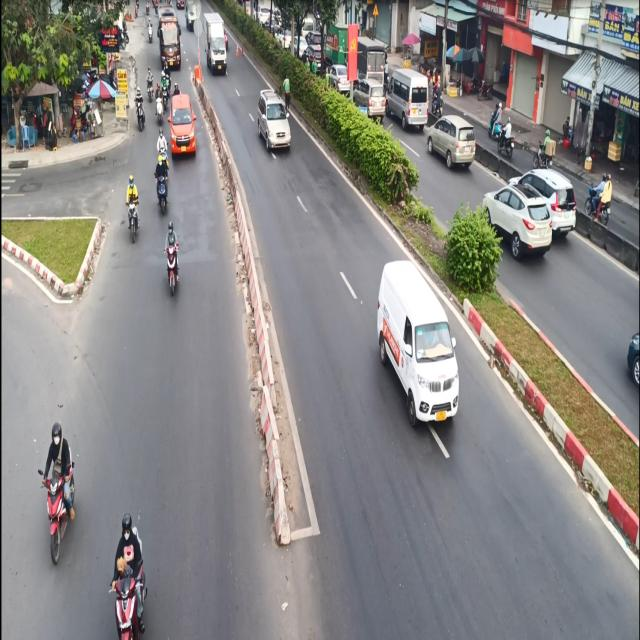car: (368, 256, 464, 440), (255, 80, 291, 168), (166, 92, 200, 164)
motor: (37, 414, 78, 560), (106, 508, 148, 640), (165, 218, 181, 309), (124, 169, 142, 249)
truck: (200, 12, 232, 81)
